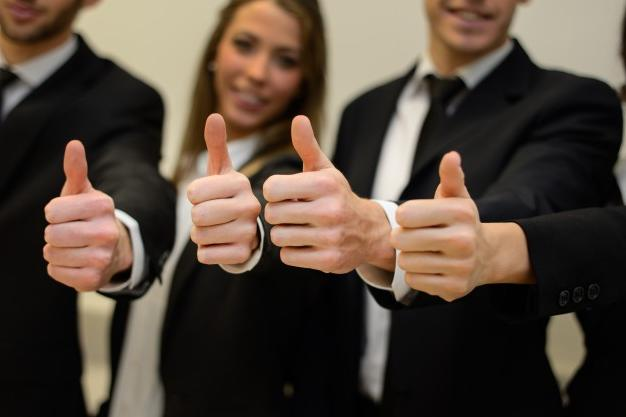thumbsup: (262, 114, 347, 274), (391, 151, 481, 296), (43, 139, 121, 291), (187, 113, 261, 264)
